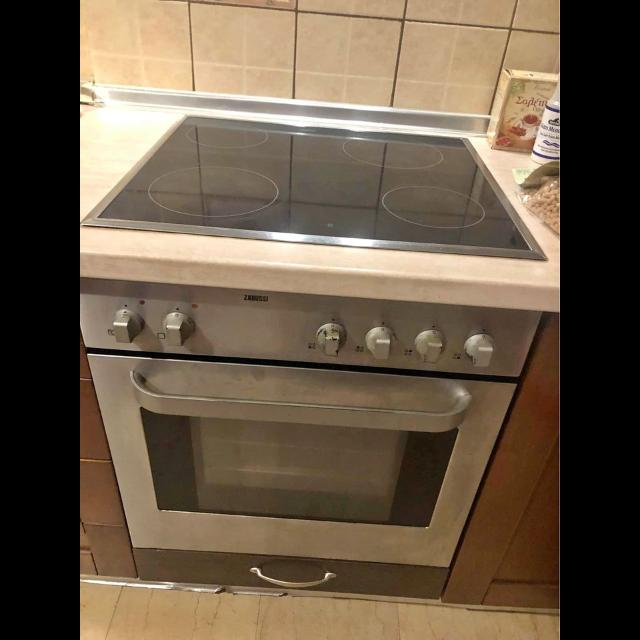Oven: (80, 280, 524, 560)
